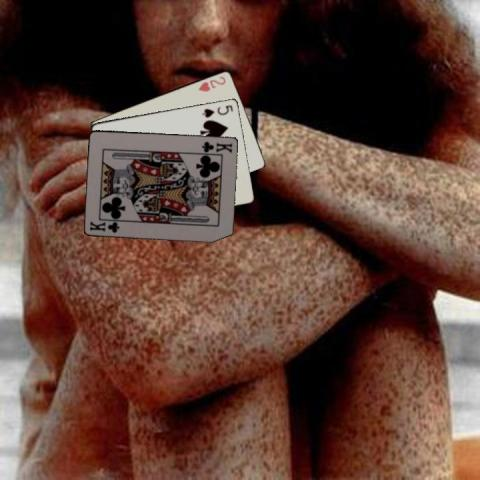2h: (196, 72, 228, 92)
5s: (199, 102, 235, 119)
Kc: (87, 218, 120, 234), (199, 139, 234, 154)
